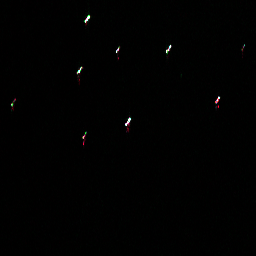ship: (162, 42, 174, 55), (81, 12, 92, 25), (123, 114, 133, 128), (8, 96, 18, 108), (213, 93, 222, 106), (74, 65, 84, 76), (79, 130, 88, 140), (239, 42, 247, 53), (114, 45, 121, 54)
